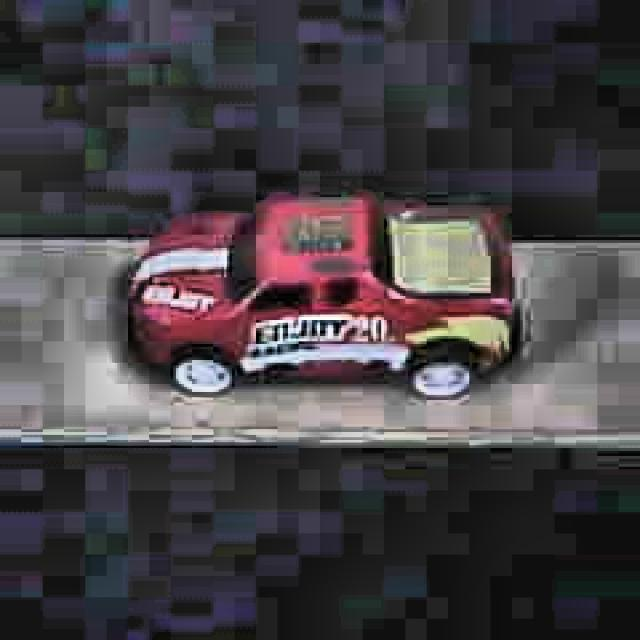car: (127, 190, 519, 399)
